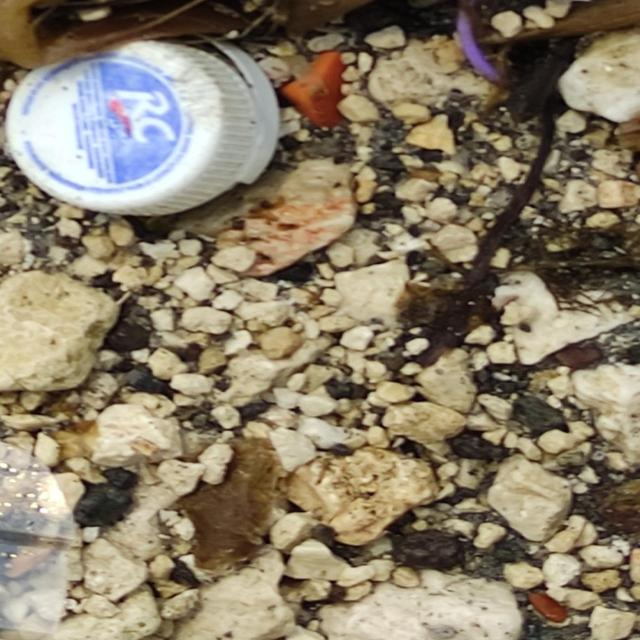plastic_waste: (4, 32, 286, 219)
